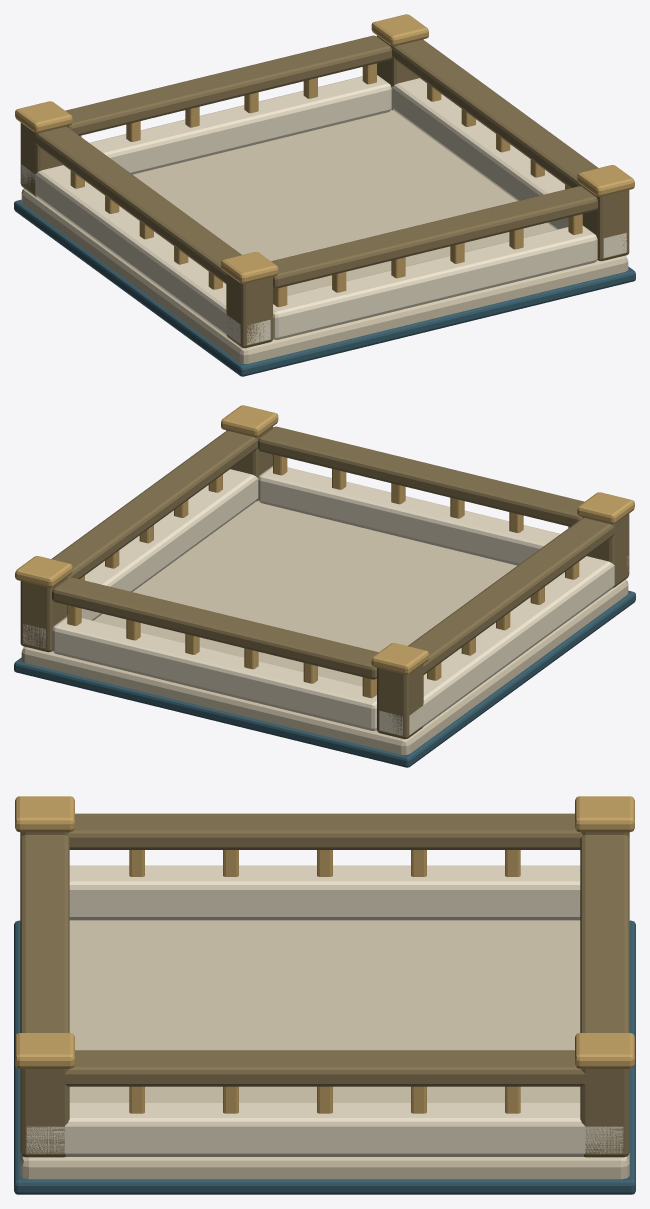
Rendered from single-tray.glb.
3 views of the same model, one above another, from view 1: azimuth 30°, elevation 25°; view 2: azimuth 150°, elevation 25°; view 3: azimuth 270°, elevation 25° (orthographic). The views are drawn at different scales.
Visible parts, largest first — view 1: Continuous limestone plinth.002, Retaining stone kerb.009, Continuous bronze rail.009, Bronze fence picket.070, Blue foundation band.002; view 2: Continuous limestone plinth.002, Retaining stone kerb.009, Continuous bronze rail.009, Bronze fence picket.070, Blue foundation band.002; view 3: Continuous limestone plinth.002, Continuous bronze rail.009, Retaining stone kerb.009, Blue foundation band.002, Bronze fence picket.070.
Boxes of the visible parts, x1,y1,x2,y2 form: Continuous limestone plinth.002: [21, 109, 628, 363]; Retaining stone kerb.009: [21, 75, 626, 344]; Continuous bronze rail.009: [20, 35, 629, 348]; Bronze fence picket.070: [15, 14, 634, 307]; Blue foundation band.002: [14, 199, 635, 376]; Continuous limestone plinth.002: [21, 500, 628, 754]; Retaining stone kerb.009: [23, 466, 628, 735]; Continuous bronze rail.009: [20, 426, 629, 739]; Bronze fence picket.070: [15, 405, 634, 698]; Blue foundation band.002: [14, 590, 635, 767]; Continuous limestone plinth.002: [20, 920, 629, 1179]; Continuous bronze rail.009: [20, 813, 629, 1157]; Retaining stone kerb.009: [26, 865, 623, 1156]; Blue foundation band.002: [14, 920, 635, 1194]; Bronze fence picket.070: [15, 796, 634, 1113].
Size of the model in its own units: 1.75 by 0.4475 by 1.75.
